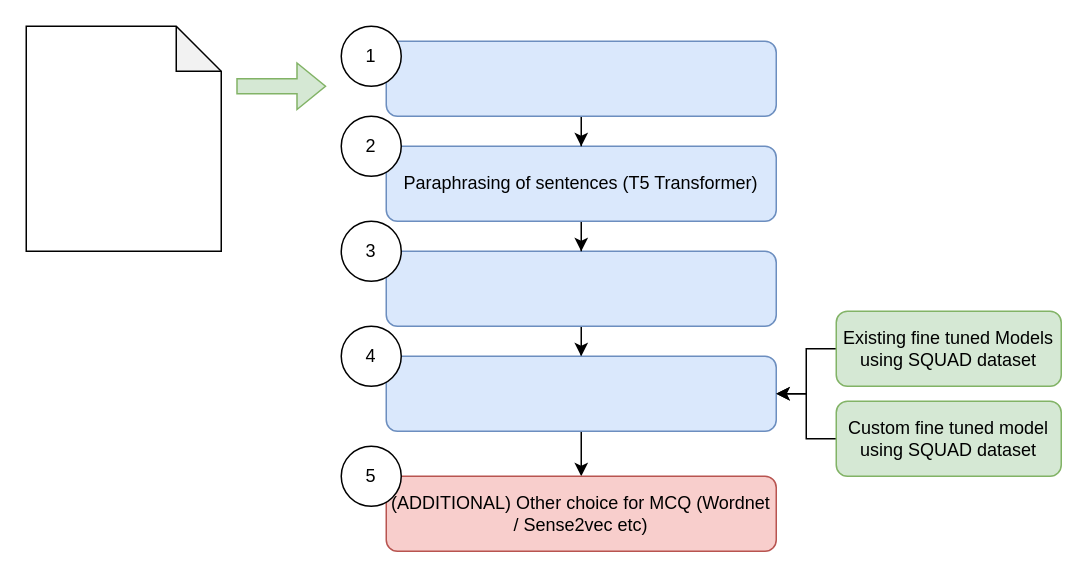
The diagram is 1088 pixels wide and 578 high, and some of its shapes have lost their labels. Each missing label, with the centre of its shape:
"Context" belongs at (x=123, y=138).
"Keyword/ Answer Extraction (Python Keyphrase Extraction)" belongs at (x=580, y=288).
"Question Generation (T5 Transformer)" belongs at (x=580, y=393).
"Text Summarization (T5 Transformer Model)" belongs at (x=580, y=78).
